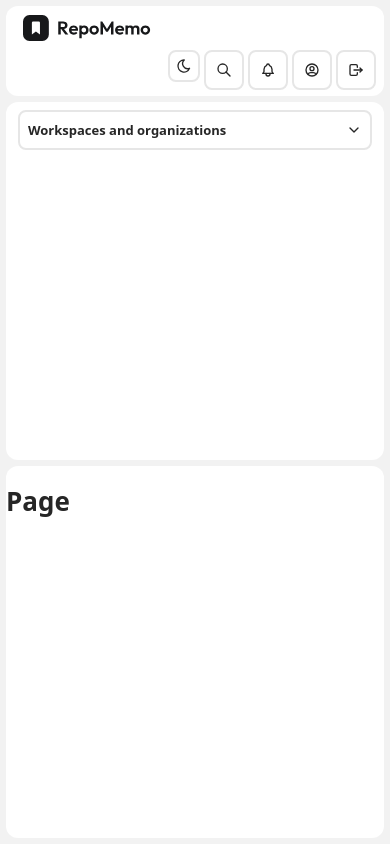
Test: the rail on a narrow screen › is folded behind a button that says whether it is open
Click the button "Workspaces and organizations".
click(195, 130)  # box [18,110,372,150]
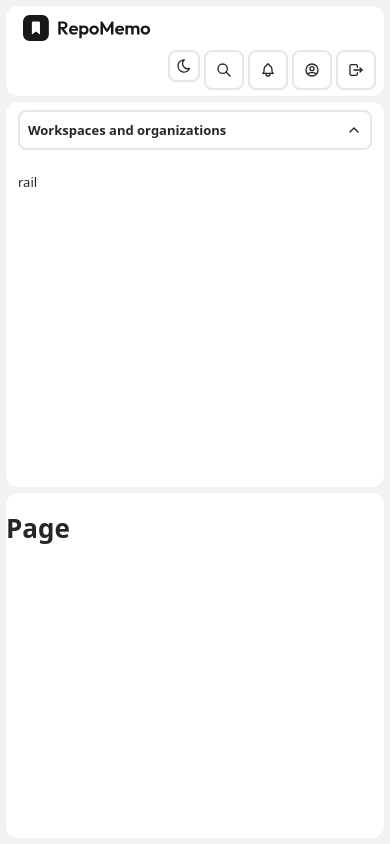
expect the button "Workspaces and organizations" is expanded: met, box [18,110,372,150]
